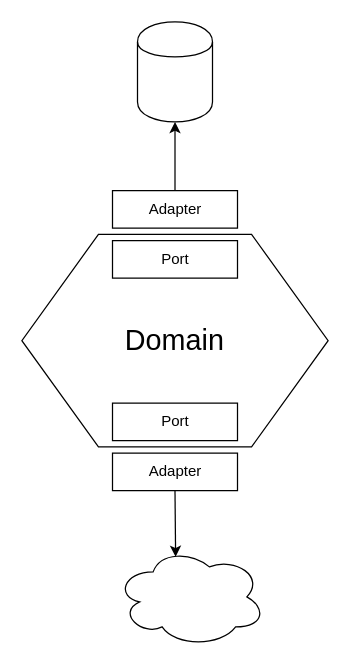
The diagram is 350 pixels wide and 669 high, and some of its shapes have lost their labels. The shapes that lost their labels are listed below. From the top down, each one's centre as x and y in pixels, then its label:
point 174,71: Database
point 190,596: Web Service
